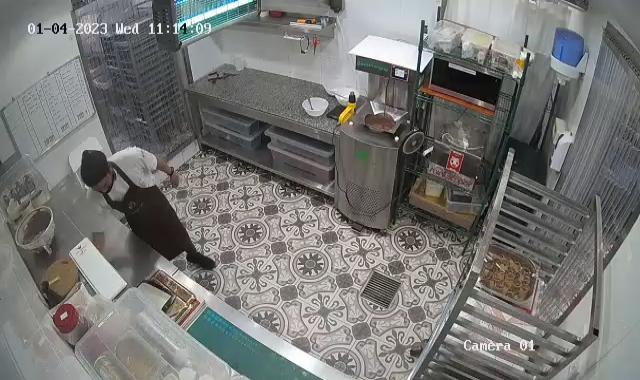no_hairnet: (78, 144, 112, 191)
